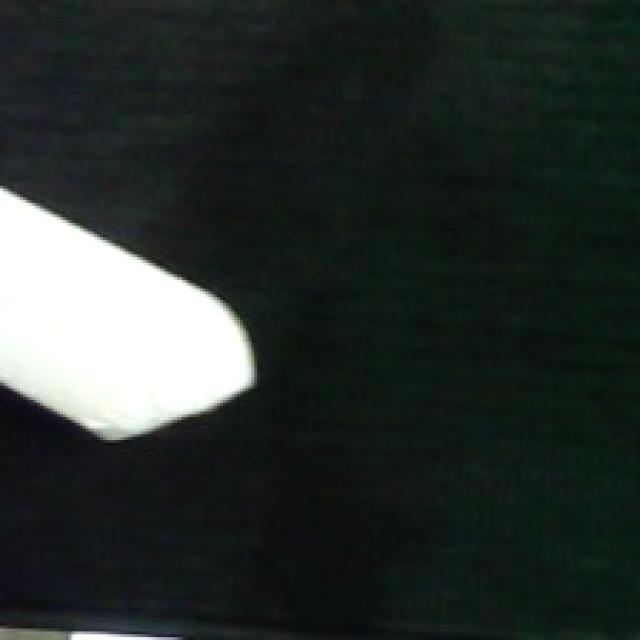defected: (0, 178, 263, 443)
